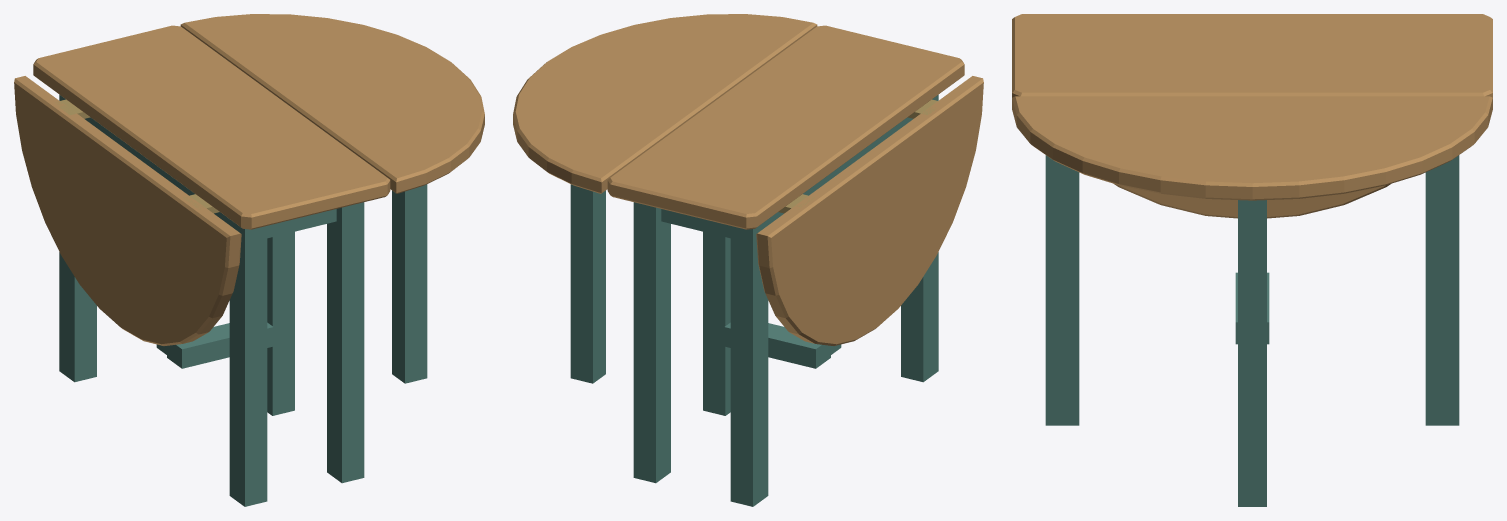
The picture shows the model from 3 angles, left to right: view 1: azimuth 30°, elevation 25°; view 2: azimuth 150°, elevation 25°; view 3: azimuth 270°, elevation 25°; orthographic projection. The views are drawn at different scales.
Parts seen in each view (by area): view 1: NarrowCentralDiningTop, DroppedCurvedDLeaf, RaisedCurvedDLeaf, LeftFixedPortalFrame, OpenGatelegFrame, RightFixedPortalFrame, LowerGateRootRail, FrontCentralCrossRail; view 2: NarrowCentralDiningTop, DroppedCurvedDLeaf, RaisedCurvedDLeaf, LeftFixedPortalFrame, OpenGatelegFrame, RightFixedPortalFrame, LowerGateRootRail, RearCentralCrossRail; view 3: RaisedCurvedDLeaf, NarrowCentralDiningTop, RightFixedPortalFrame, OpenGatelegFrame, DroppedCurvedDLeaf.
Part boxes in pixels (x1,y1,x2,y2): NarrowCentralDiningTop: (33,25,390,229); DroppedCurvedDLeaf: (14,76,241,345); RaisedCurvedDLeaf: (180,14,484,193); LeftFixedPortalFrame: (59,94,267,506); OpenGatelegFrame: (267,184,427,415); RightFixedPortalFrame: (156,202,364,483); LowerGateRootRail: (167,322,273,368); FrontCentralCrossRail: (267,209,336,238); NarrowCentralDiningTop: (607,25,964,229); DroppedCurvedDLeaf: (756,76,983,345); RaisedCurvedDLeaf: (513,14,817,193); LeftFixedPortalFrame: (730,94,938,506); OpenGatelegFrame: (570,184,730,415); RightFixedPortalFrame: (633,202,841,483); LowerGateRootRail: (724,322,830,368); RearCentralCrossRail: (661,209,730,238); RaisedCurvedDLeaf: (1012,96,1492,200); NarrowCentralDiningTop: (1012,14,1492,97); RightFixedPortalFrame: (1045,155,1459,425); OpenGatelegFrame: (1238,200,1266,506); DroppedCurvedDLeaf: (1114,184,1390,218).
Size of the model in its own units: 0.89 by 0.78 by 1.
